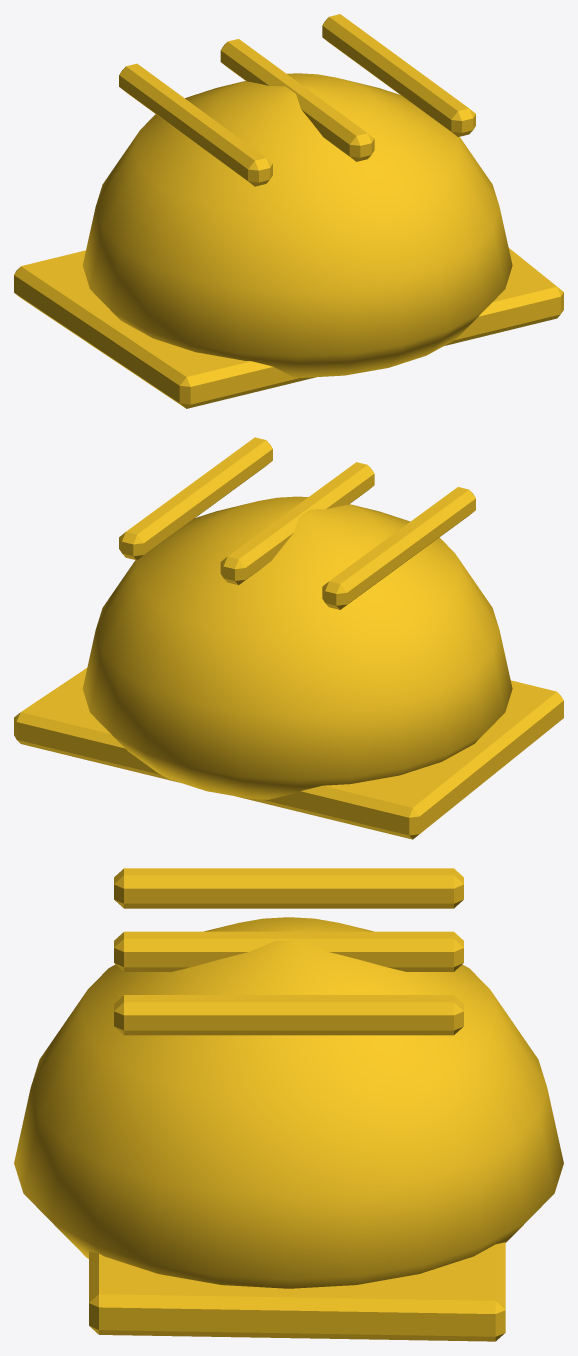
The model's file is item_hard_hat.glb.
The picture shows the model from 3 angles, top to bottom: view 1: azimuth 30°, elevation 25°; view 2: azimuth 150°, elevation 25°; view 3: azimuth 270°, elevation 25°; orthographic projection. The views are drawn at different scales.
Parts seen in each view (by area): view 1: item_hard_hat; view 2: item_hard_hat; view 3: item_hard_hat.
Boxes of the visible parts, x1,y1,x2,y2 form: item_hard_hat: [14, 14, 563, 408]; item_hard_hat: [14, 437, 563, 839]; item_hard_hat: [14, 868, 563, 1341].
Size of the model in its own units: 0.3595 by 0.19 by 0.33.
